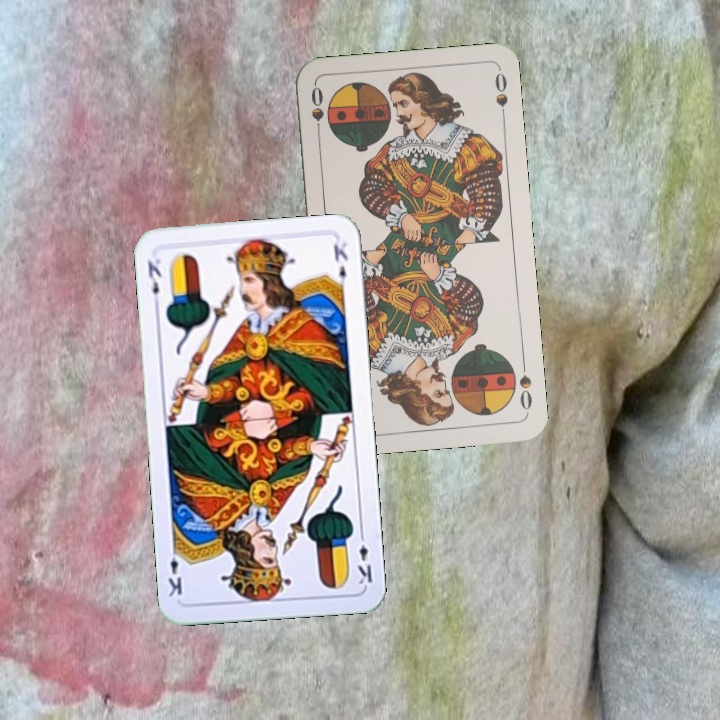EK: (354, 528, 375, 587), (143, 254, 164, 311)
SO: (515, 356, 535, 415), (307, 82, 326, 142)
